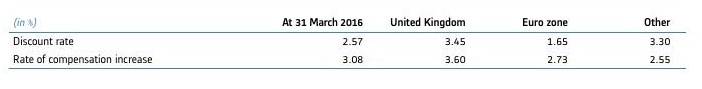table: (0, 0, 702, 89)
